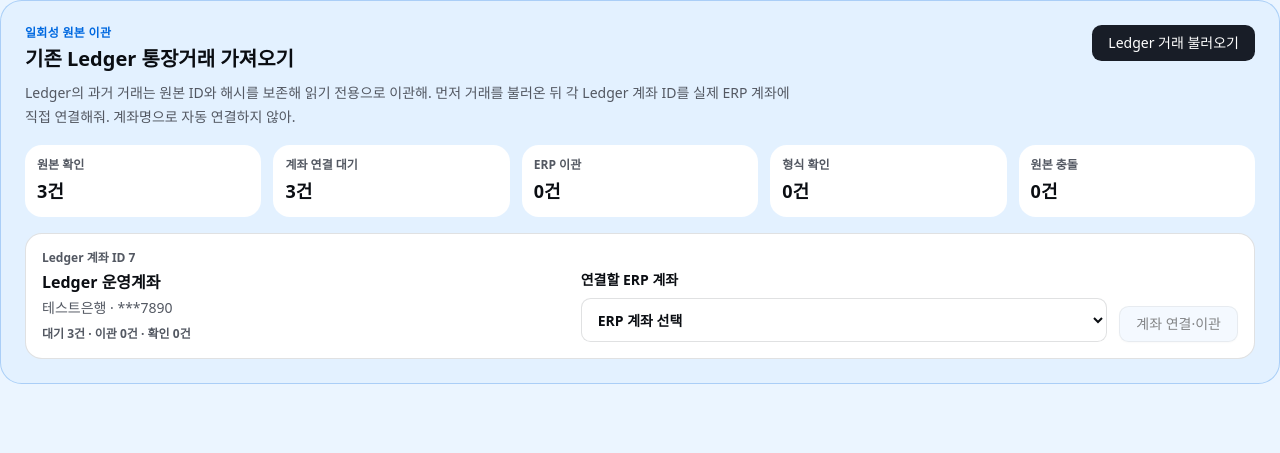
LedgerBankBackfillPanel › shows bounded cursor continuation instead of pretending a large backfill is complete
The image size is (1280, 453).
Click the button "Ledger 거래 불러오기": {"x": 1174, "y": 43} 1092,25 -> 1255,61
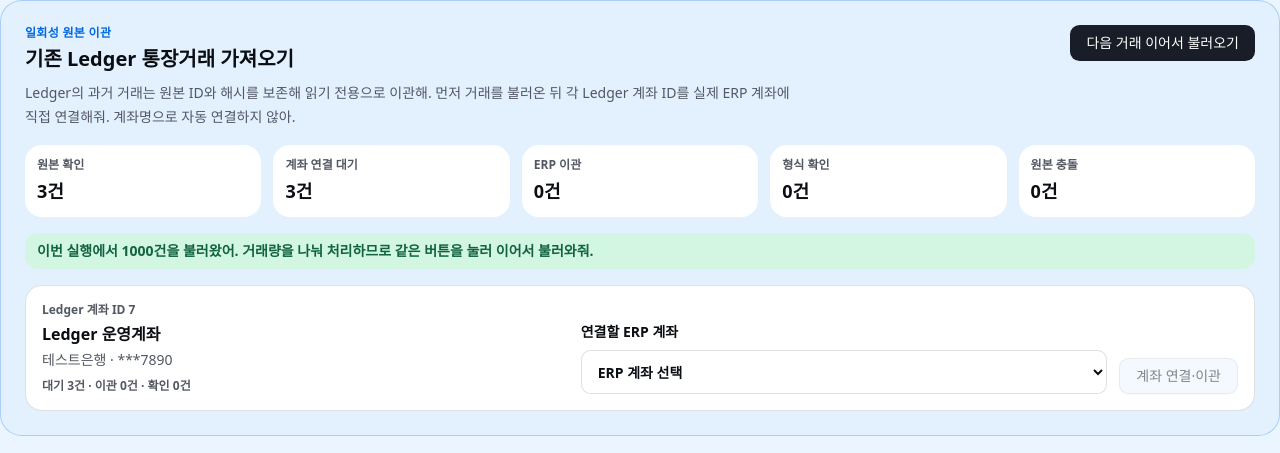
Expected: the text "이번 실행에서 1000건을 불러왔어. 거래량을 나눠 처리하므로 같은 버튼을 눌러 이어서 불러와줘." is shown, 25,233 -> 1255,269
Expected: the button "다음 거래 이어서 불러오기" is shown, 1070,25 -> 1255,61
